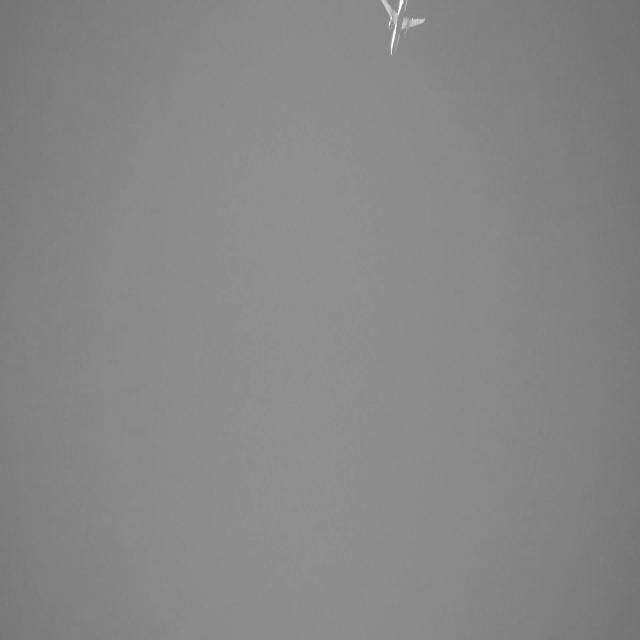aeroplane: (382, 0, 424, 59)
